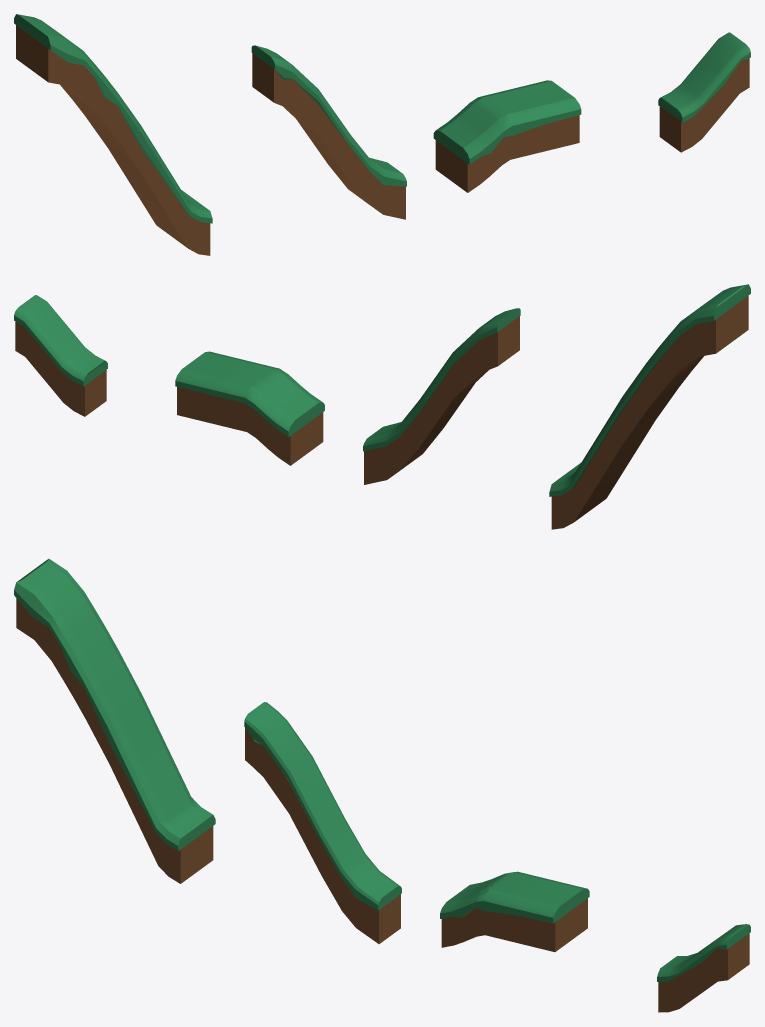
File: BBF_Export_CurvyTerrain.fbx
The picture shows the model from 3 angles, top to bottom: view 1: azimuth 30°, elevation 25°; view 2: azimuth 150°, elevation 25°; view 3: azimuth 330°, elevation 25°; orthographic projection.
Parts seen in each view (by area): view 1: polySurface4, polySurface3, polySurface1, polySurface2; view 2: polySurface4, polySurface3, polySurface1, polySurface2; view 3: polySurface4, polySurface1, polySurface3, polySurface2.
Part boxes in pixels (box(x1,y1,x2,y2)): polySurface4: box(14, 14, 212, 255); polySurface3: box(433, 80, 581, 192); polySurface1: box(251, 45, 406, 219); polySurface2: box(658, 32, 750, 152); polySurface4: box(549, 284, 750, 529); polySurface3: box(175, 351, 324, 465); polySurface1: box(363, 308, 520, 484); polySurface2: box(14, 295, 107, 416); polySurface4: box(14, 558, 215, 883); polySurface1: box(244, 702, 401, 943); polySurface3: box(440, 871, 589, 951); polySurface2: box(657, 924, 750, 1012).
Bounding box in the file's own units: 18.83 × 6.91 × 1.7.
